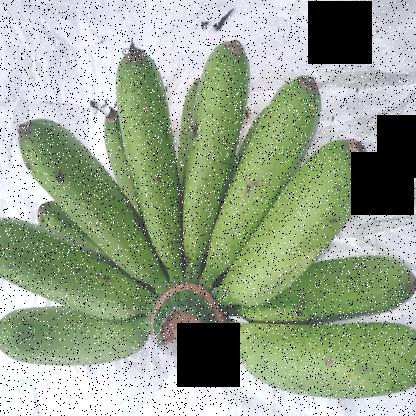unripe: (214, 136, 373, 310), (9, 115, 173, 280), (208, 70, 327, 296), (112, 42, 194, 299), (176, 31, 251, 287), (231, 318, 415, 414), (1, 213, 157, 317), (241, 258, 415, 333), (0, 299, 184, 369)
